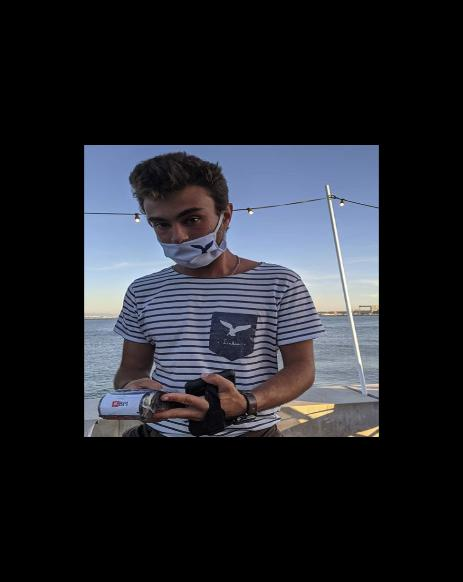mask_weared_incorrect: (143, 209, 234, 266)
